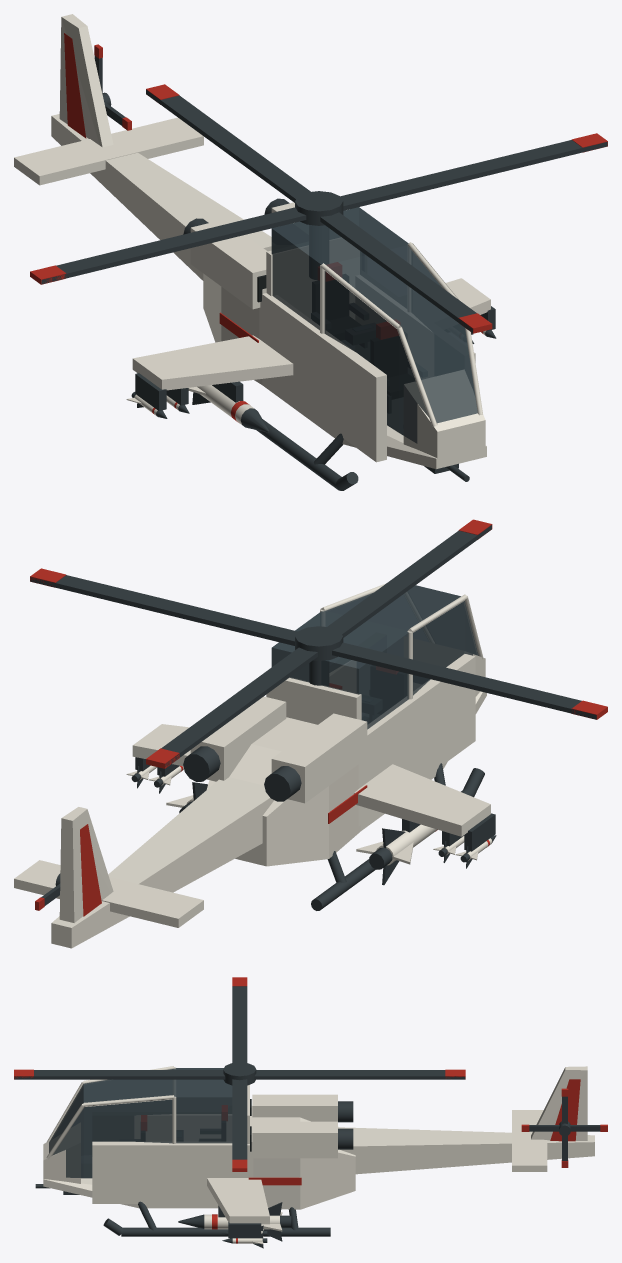
The picture shows the model from 3 angles, top to bottom: view 1: azimuth 30°, elevation 25°; view 2: azimuth 150°, elevation 25°; view 3: azimuth 270°, elevation 25°; orthographic projection. The views are drawn at different scales.
Visible parts, largest first — view 1: helicopter-fleet-armor, helicopter-fleet-glass, helicopter-fleet-machine, blade-arm-2-painted, blade-arm-0-painted, blade-arm-3-painted, blade-arm-1-painted, crew-chair-pilot-painted, crew-chair-gunner-painted, helicopter-fleet-red, store-left-large-painted, rotor-main-fleet-machine; view 2: helicopter-fleet-armor, helicopter-fleet-glass, helicopter-fleet-machine, blade-arm-2-painted, blade-arm-0-painted, blade-arm-1-painted, blade-arm-3-painted, store-left-large-painted, helicopter-fleet-red, crew-chair-gunner-painted, rotor-main-fleet-machine; view 3: helicopter-fleet-armor, helicopter-fleet-glass, helicopter-fleet-machine, blade-arm-1-painted, blade-arm-3-painted, blade-arm-0-painted, blade-arm-2-painted, store-right-large-painted, helicopter-fleet-red, rotor-main-fleet-machine.
Part boxes in pixels (bbox=[...]): helicopter-fleet-armor: bbox=[14, 14, 490, 469]; helicopter-fleet-glass: bbox=[271, 207, 477, 443]; helicopter-fleet-machine: bbox=[135, 198, 495, 490]; blade-arm-2-painted: bbox=[30, 207, 306, 284]; blade-arm-0-painted: bbox=[340, 133, 607, 210]; blade-arm-3-painted: bbox=[320, 212, 492, 333]; blade-arm-1-painted: bbox=[146, 84, 310, 202]; crew-chair-pilot-painted: bbox=[311, 262, 375, 347]; crew-chair-gunner-painted: bbox=[371, 320, 427, 412]; helicopter-fleet-red: bbox=[64, 33, 258, 342]; store-left-large-painted: bbox=[188, 385, 269, 432]; rotor-main-fleet-machine: bbox=[295, 191, 343, 225]; helicopter-fleet-armor: bbox=[14, 583, 490, 948]; helicopter-fleet-glass: bbox=[271, 585, 478, 729]; helicopter-fleet-machine: bbox=[135, 660, 495, 910]; blade-arm-2-painted: bbox=[332, 642, 607, 719]; blade-arm-0-painted: bbox=[30, 568, 297, 645]; blade-arm-1-painted: bbox=[146, 647, 317, 768]; blade-arm-3-painted: bbox=[327, 519, 492, 637]; store-left-large-painted: bbox=[356, 824, 437, 885]; helicopter-fleet-red: bbox=[80, 785, 367, 916]; crew-chair-gunner-painted: bbox=[370, 665, 428, 722]; rotor-main-fleet-machine: bbox=[295, 626, 343, 660]; helicopter-fleet-armor: bbox=[43, 1066, 594, 1224]; helicopter-fleet-glass: bbox=[49, 1068, 232, 1178]; helicopter-fleet-machine: bbox=[103, 1101, 353, 1238]; blade-arm-1-painted: bbox=[254, 1069, 465, 1079]; blade-arm-3-painted: bbox=[14, 1069, 225, 1079]; blade-arm-0-painted: bbox=[232, 1079, 247, 1171]; blade-arm-2-painted: bbox=[232, 977, 247, 1062]; store-right-large-painted: bbox=[178, 1202, 291, 1241]; helicopter-fleet-red: bbox=[248, 1079, 580, 1185]; rotor-main-fleet-machine: bbox=[223, 1062, 256, 1085].
Size of the model in its own units: 50.42 by 18.06 by 66.32.
